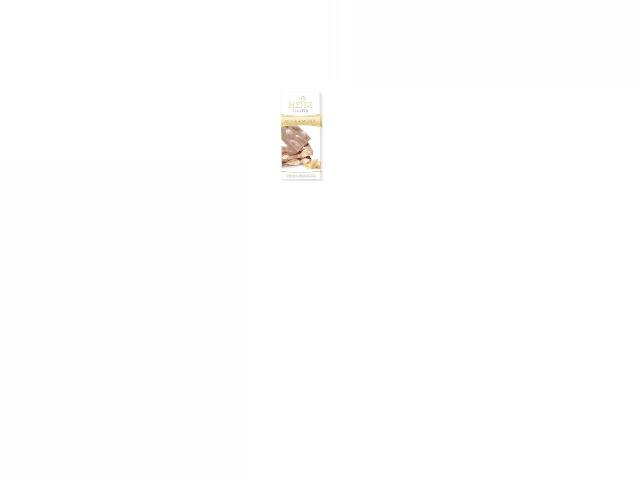chocolate: (271, 86, 330, 179)
